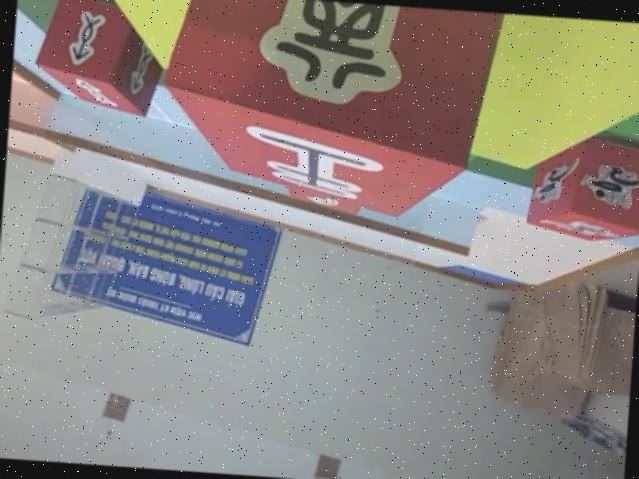R1: (521, 129, 639, 249)
R2 Fake: (156, 0, 507, 223)
R2 Real: (28, 0, 172, 118)
